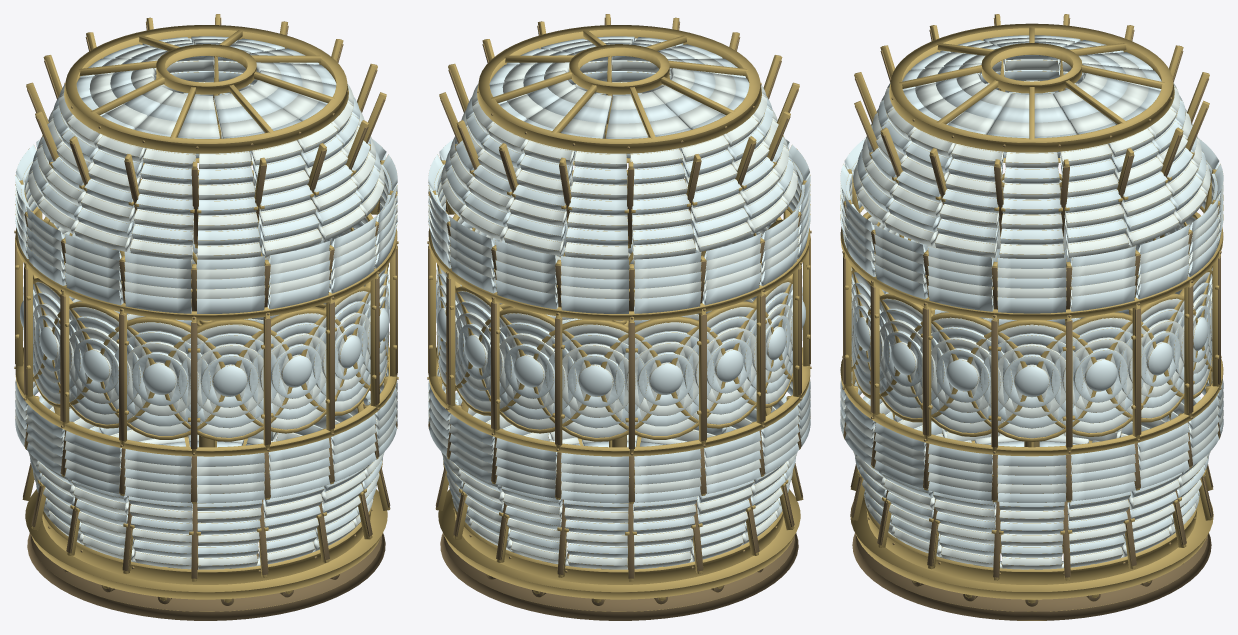
The model's file is fresnel_lens.fbx.
3 views of the same model, side by side, from view 1: azimuth 30°, elevation 25°; view 2: azimuth 150°, elevation 25°; view 3: azimuth 270°, elevation 25° (orthographic).
Parts seen in each view (by area): view 1: StructuralFrame, FlashPanel_12, FlashPanel_11, FlashPanel_13, FlashPanel_10, FlashPanel_14, RotatingCarriage, UpperPrismAssembly, FlashPanel_09, FlashPanel_15, FlashPanel_08, FlashPanel_16 (+7 smaller); view 2: StructuralFrame, FlashPanel_06, FlashPanel_07, FlashPanel_05, FlashPanel_08, FlashPanel_04, RotatingCarriage, UpperPrismAssembly, FlashPanel_09, FlashPanel_03, FlashPanel_10, FlashPanel_02 (+7 smaller); view 3: StructuralFrame, FlashPanel_01, FlashPanel_02, FlashPanel_16, FlashPanel_03, FlashPanel_15, RotatingCarriage, UpperPrismAssembly, FlashPanel_14, FlashPanel_04, FlashPanel_13, FlashPanel_05 (+6 smaller).
Boxes of the visible parts, x1=… form: StructuralFrame: x1=14, y1=14, x2=398, y2=584; FlashPanel_12: x1=164, y1=151, x2=292, y2=569; FlashPanel_11: x1=100, y1=148, x2=225, y2=568; FlashPanel_13: x1=234, y1=140, x2=346, y2=564; FlashPanel_10: x1=52, y1=135, x2=155, y2=561; FlashPanel_14: x1=297, y1=123, x2=380, y2=551; RotatingCarriage: x1=25, y1=489, x2=387, y2=620; UpperPrismAssembly: x1=76, y1=36, x2=336, y2=154; FlashPanel_09: x1=26, y1=116, x2=102, y2=545; FlashPanel_15: x1=331, y1=102, x2=397, y2=529; FlashPanel_08: x1=15, y1=95, x2=73, y2=517; FlashPanel_16: x1=347, y1=83, x2=397, y2=498; StructuralFrame: x1=427, y1=14, x2=811, y2=584; FlashPanel_06: x1=533, y1=151, x2=661, y2=569; FlashPanel_07: x1=600, y1=148, x2=725, y2=568; FlashPanel_05: x1=479, y1=140, x2=591, y2=564; FlashPanel_08: x1=670, y1=135, x2=773, y2=561; FlashPanel_04: x1=445, y1=123, x2=528, y2=551; RotatingCarriage: x1=438, y1=489, x2=800, y2=620; UpperPrismAssembly: x1=489, y1=36, x2=749, y2=154; FlashPanel_09: x1=723, y1=116, x2=799, y2=545; FlashPanel_03: x1=428, y1=102, x2=494, y2=529; FlashPanel_10: x1=752, y1=95, x2=810, y2=517; FlashPanel_02: x1=428, y1=83, x2=478, y2=498; StructuralFrame: x1=840, y1=14, x2=1223, y2=585; FlashPanel_01: x1=967, y1=152, x2=1096, y2=569; FlashPanel_02: x1=1036, y1=144, x2=1156, y2=567; FlashPanel_16: x1=907, y1=144, x2=1027, y2=567; FlashPanel_03: x1=1105, y1=128, x2=1197, y2=556; FlashPanel_15: x1=866, y1=128, x2=958, y2=556; RotatingCarriage: x1=850, y1=495, x2=1213, y2=620; UpperPrismAssembly: x1=902, y1=35, x2=1161, y2=153; FlashPanel_14: x1=844, y1=108, x2=916, y2=537; FlashPanel_04: x1=1147, y1=108, x2=1219, y2=537; FlashPanel_13: x1=840, y1=87, x2=893, y2=508; FlashPanel_05: x1=1170, y1=87, x2=1223, y2=508.
Bounding box in the file's own units: 194 × 269 × 194.
